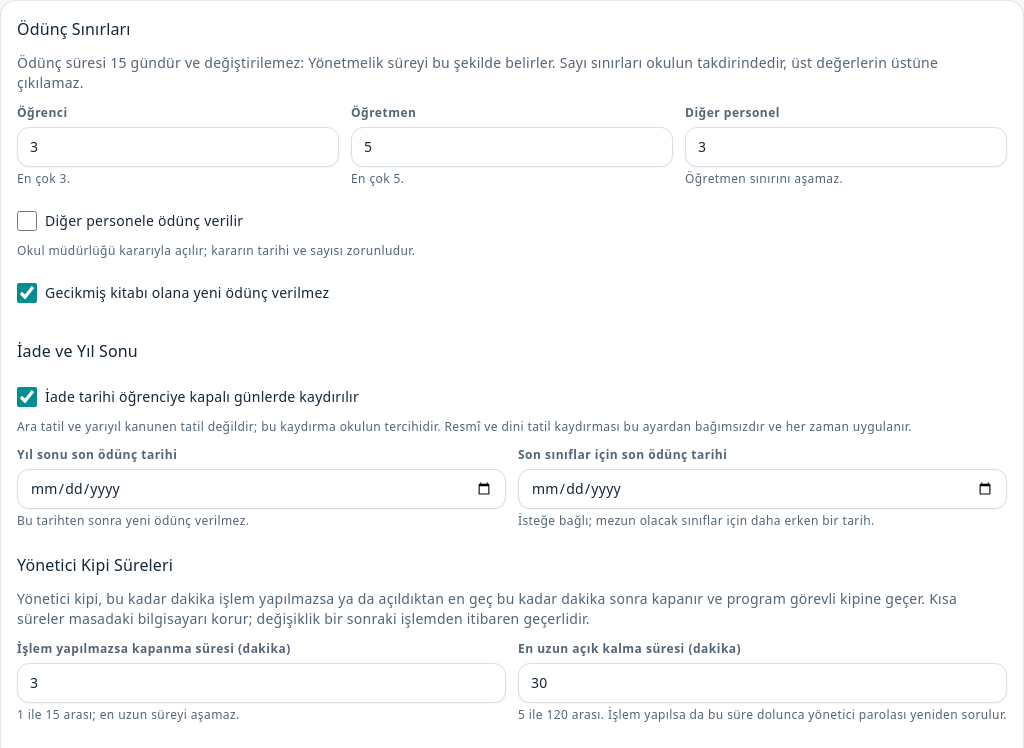
Scenario: Kütüphane Politikası › diğer personele ödünç açılınca müdürlük kararı alanları çıkar
This screenshot has width=1024, height=748.
Expected: the field labelled "Öğrenci" is shown, [30,137,326,157]
Expected: the field labelled "Müdürlük kararı tarihi" is not shown
Click the checkbox labelled "Diğer personele ödünç verilir": [27, 221] box [17,211,37,231]
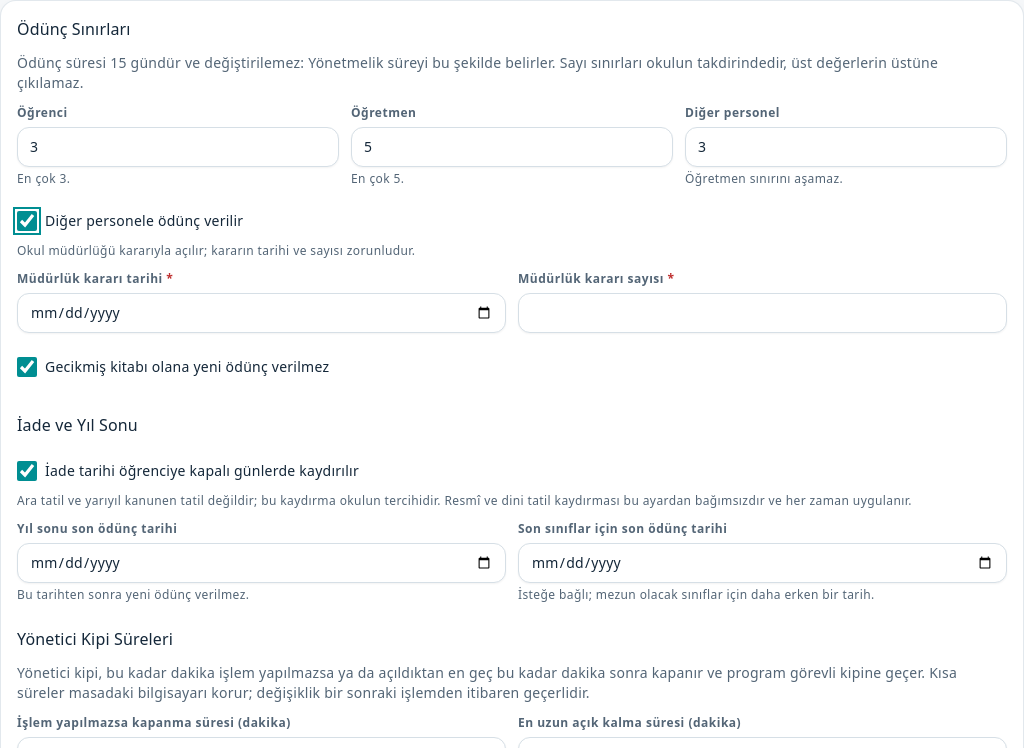
Expected: the date field labelled "Müdürlük kararı tarihi *" is shown, [30,302,493,324]
